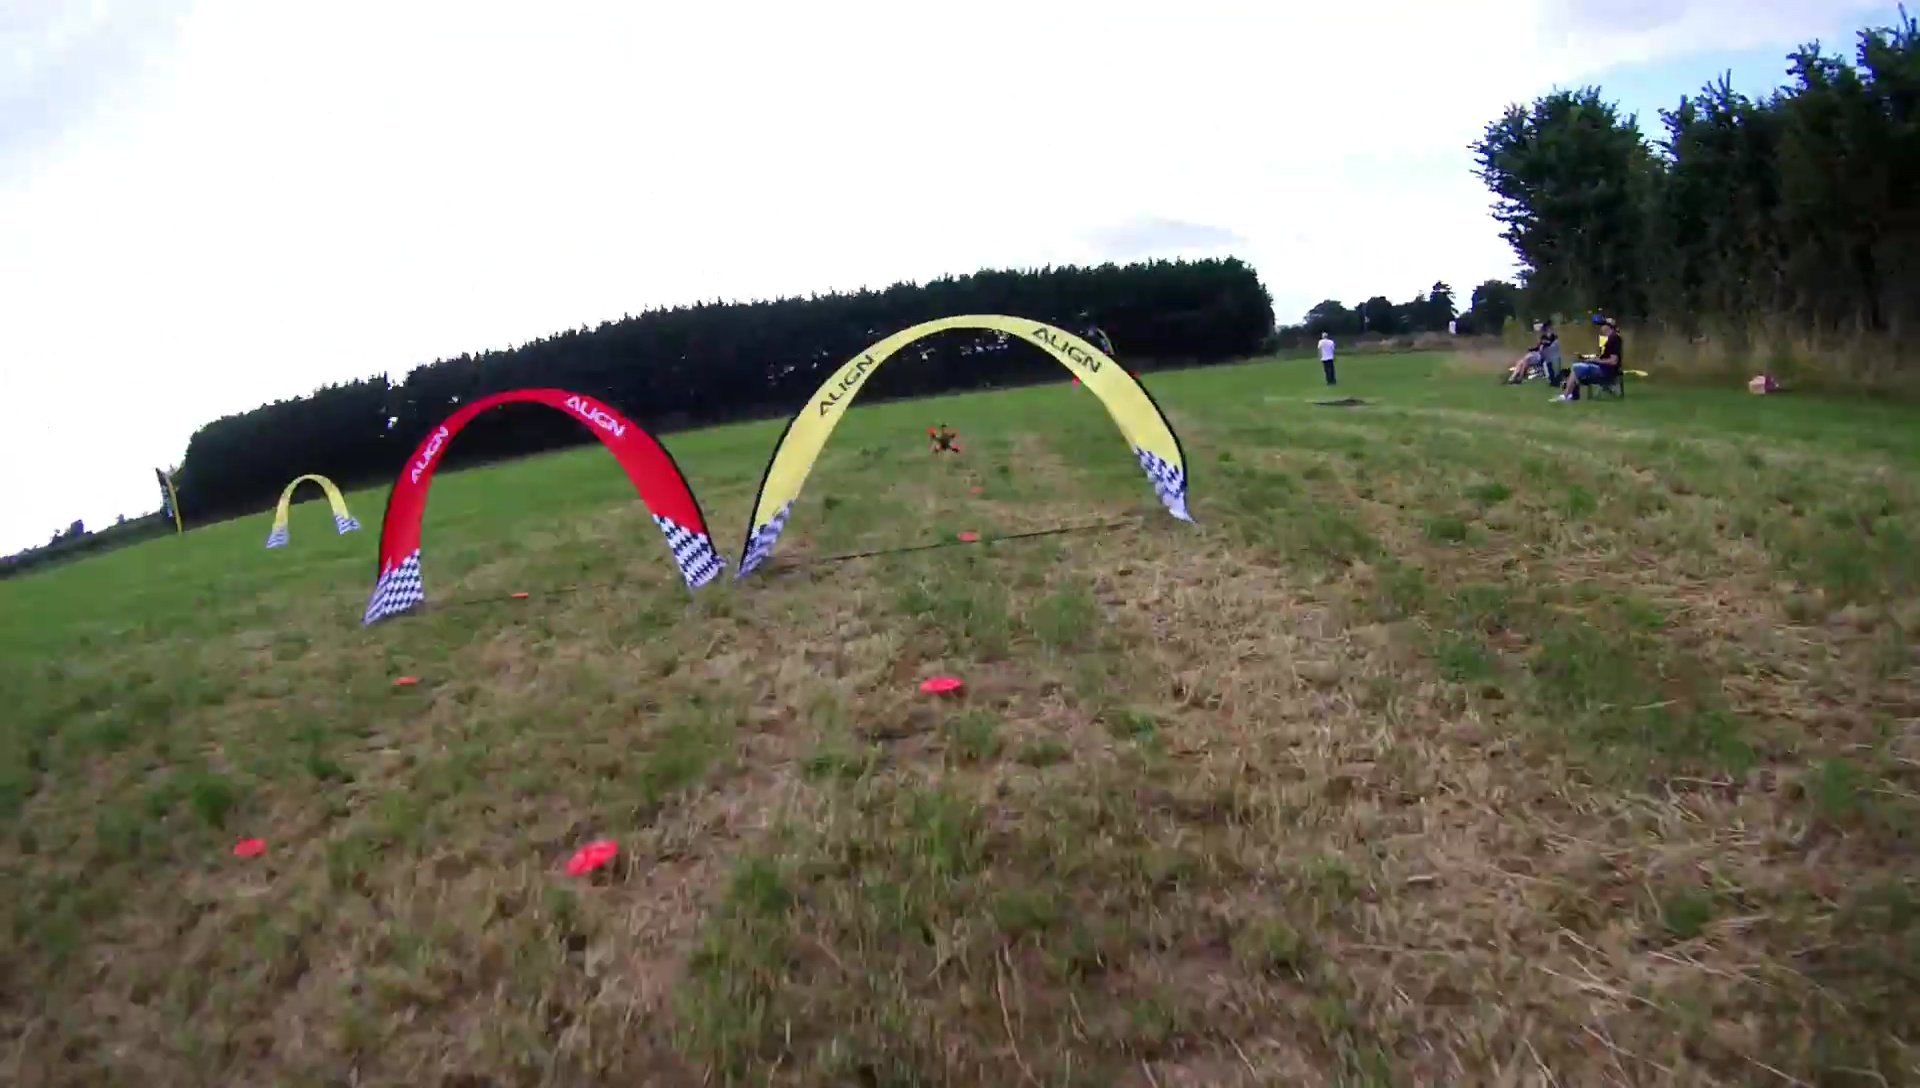gate: (737, 310, 1200, 582), (363, 381, 727, 626), (262, 473, 363, 553)
